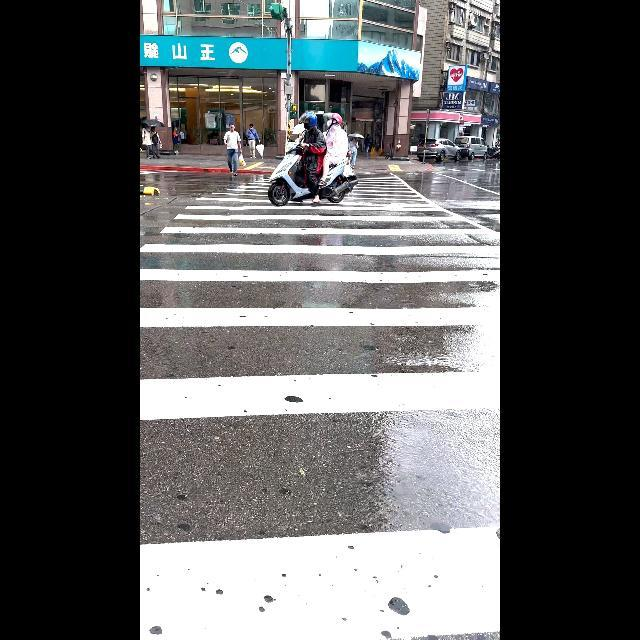sidewalk: (140, 170, 500, 640)
